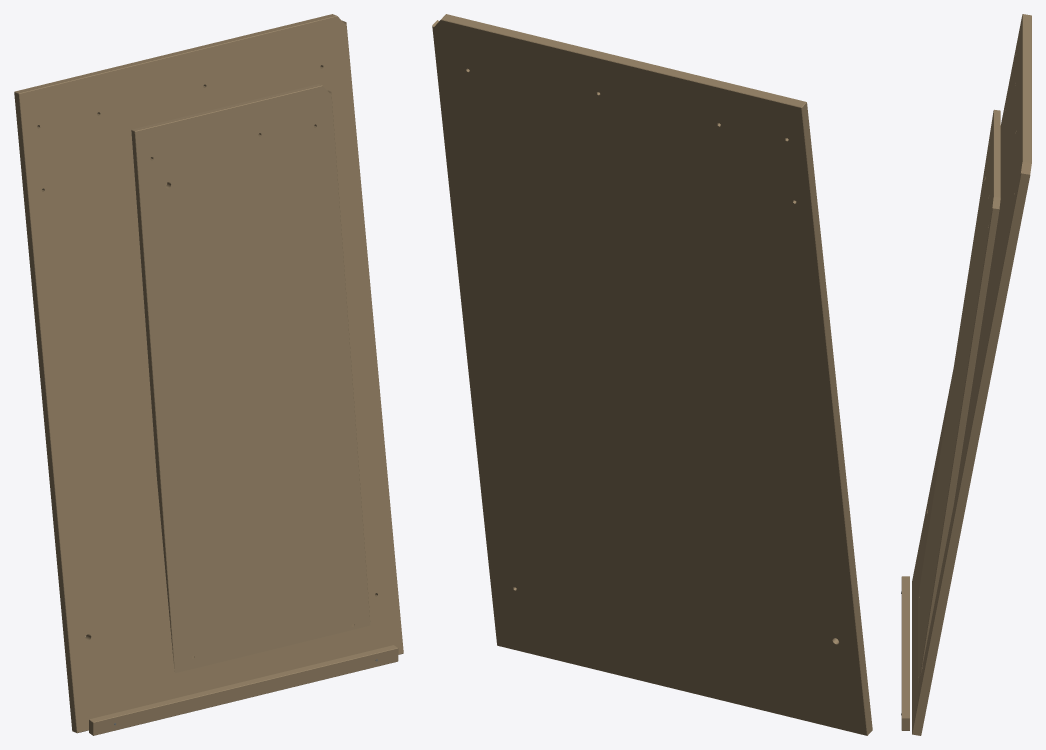
Rendered from hallway-leaning-panel-a02fa8519ab8.glb.
3 renders of one model, left to right at view 1: azimuth 30°, elevation 25°; view 2: azimuth 150°, elevation 25°; view 3: azimuth 270°, elevation 25°, orthographic. The views are drawn at different scales.
Visible parts, largest first — view 1: wood-hall-board; view 2: wood-hall-board; view 3: wood-hall-board.
Part boxes in pixels (box(x1,y1,x2,y2)): wood-hall-board: box(14, 14, 403, 735); wood-hall-board: box(432, 14, 872, 735); wood-hall-board: box(901, 14, 1031, 735).
Bounding box in the file's own units: 0.6 × 1.05 × 0.2181.
